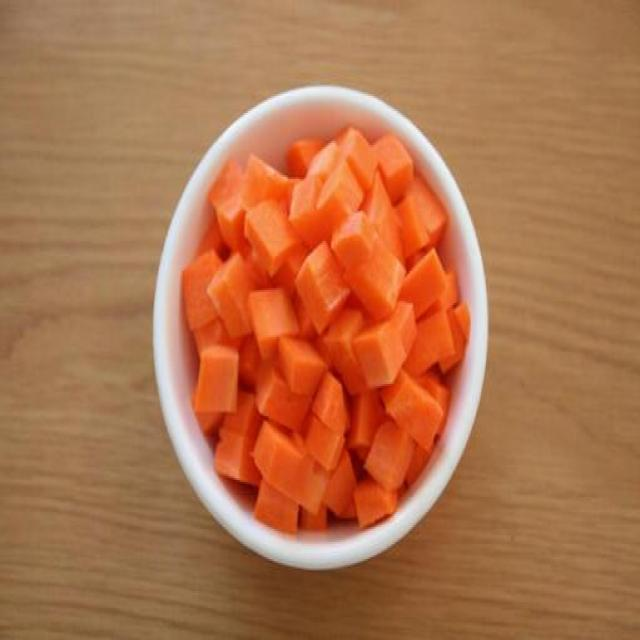ca rot: (182, 126, 470, 533)
